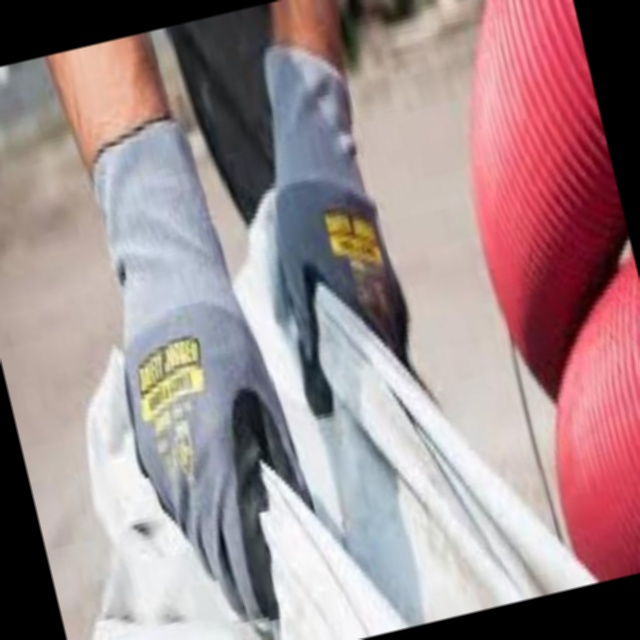gloves: (110, 102, 276, 628), (274, 44, 423, 426)
